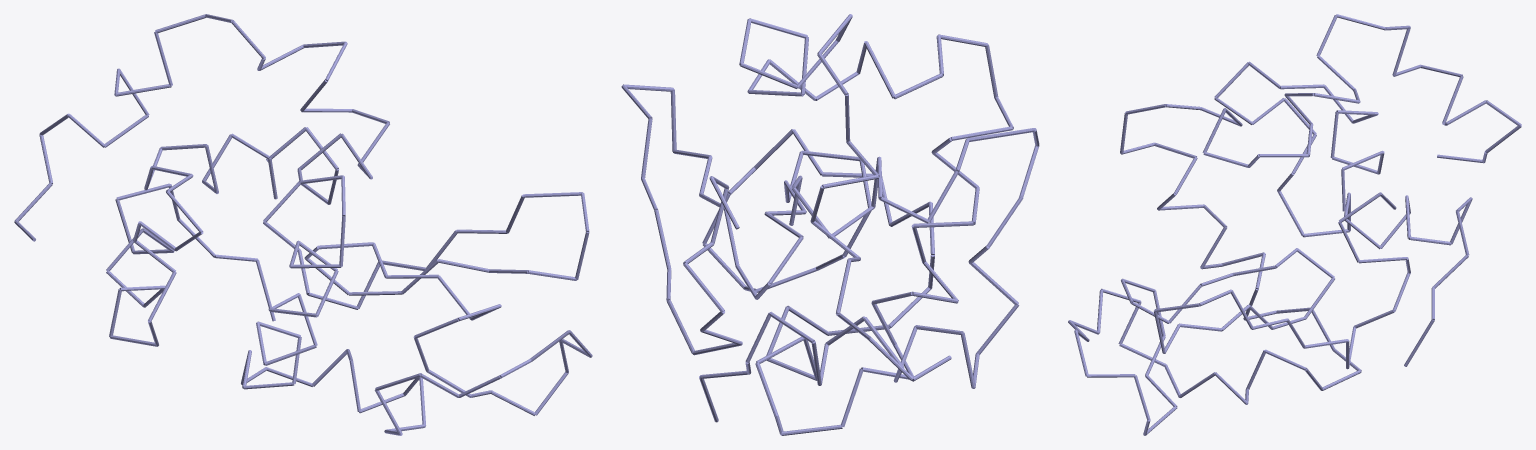
The model's file is 1lyz__ribbon__b-factor.glb.
3 views of the same model, side by side, from view 1: azimuth 30°, elevation 25°; view 2: azimuth 150°, elevation 25°; view 3: azimuth 270°, elevation 25° (orthographic). The views are drawn at different scales.
Parts seen in each view (by area): view 1: Renderer Node; view 2: Renderer Node; view 3: Renderer Node.
Part boxes in pixels (x1,y1,x2,y2): Renderer Node: (14, 14, 592, 435); Renderer Node: (621, 14, 1039, 435); Renderer Node: (1068, 14, 1521, 435).
Size of the model in its own units: 34.8 by 29.99 by 35.77.
